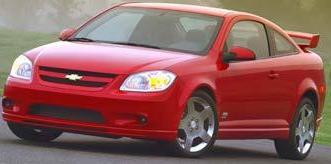front_view: (0, 48, 182, 141)
headlight: (122, 66, 179, 97)
side_glass: (223, 19, 303, 65)
